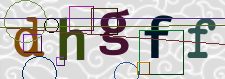d: (11, 11, 47, 63)
f: (139, 10, 176, 62), (183, 15, 218, 63)
g: (96, 7, 133, 57)
h: (54, 12, 88, 64)
